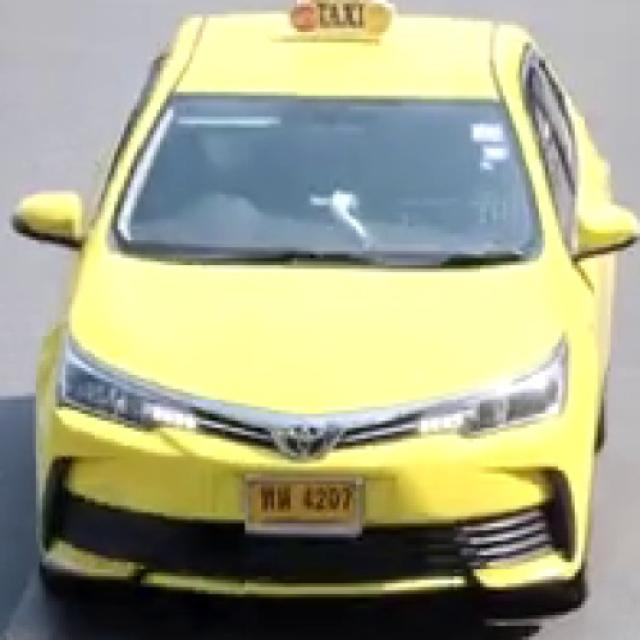plate: (247, 480, 362, 530)
